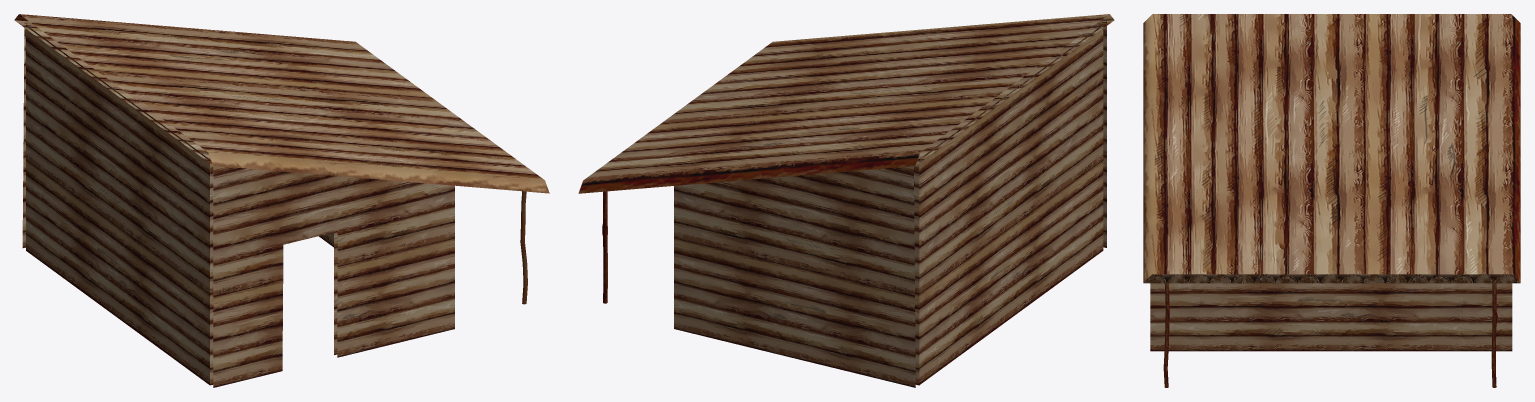
The model's file is shed.fbx.
3 renders of one model, left to right at view 1: azimuth 30°, elevation 25°; view 2: azimuth 150°, elevation 25°; view 3: azimuth 270°, elevation 25°, orthographic. The views are drawn at different scales.
Visible parts, largest first — view 1: polySurface1513; view 2: polySurface1513; view 3: polySurface1513.
Part boxes in pixels (x1,y1,x2,y2): polySurface1513: (14,14,549,387); polySurface1513: (578,14,1114,387); polySurface1513: (1143,14,1520,387).
Bounding box in the file's own units: 632 × 422 × 646.
